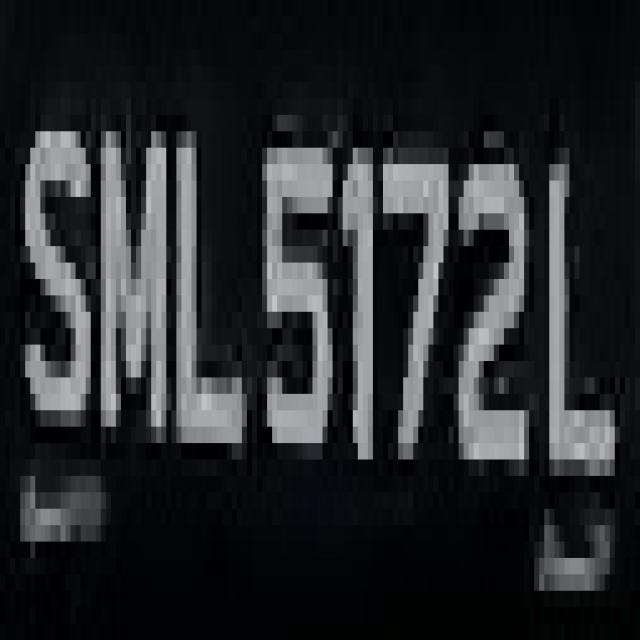1: (338, 50, 378, 492)
2: (444, 66, 534, 525)
5: (252, 82, 338, 492)
7: (368, 82, 448, 509)
L: (166, 66, 252, 492), (534, 98, 620, 509)
M: (86, 49, 176, 476)
S: (15, 33, 96, 443)
